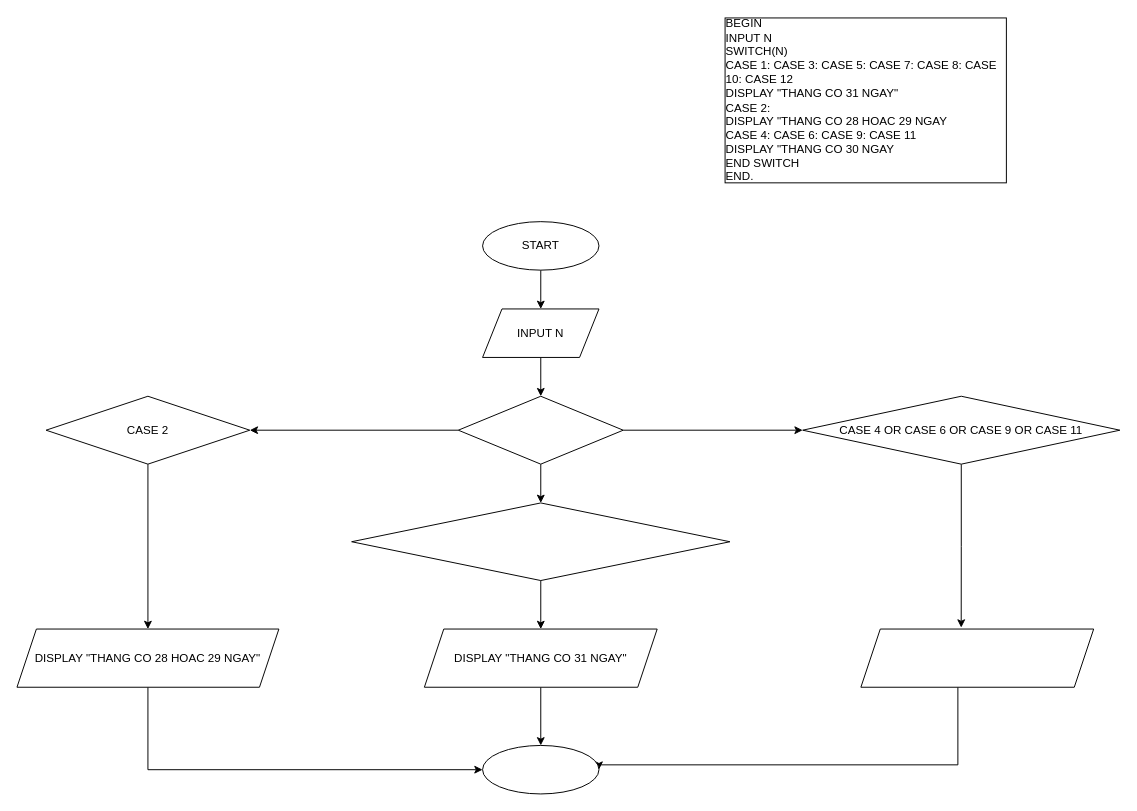
Some shapes in this 1137 by 811 pixel diagram are drawn without their labels. Each missing label, with the centre of its shape:
CASE 1 OR CASE 3 OR CASE 5 OR CASE 7 OR CASE 8 OR CASE 10 OR CASE 12: point (540, 541)
DISPLAY "THANG CO 30 NGAY": point (977, 657)
STOP: point (540, 769)
SWITCH (N): point (540, 429)
